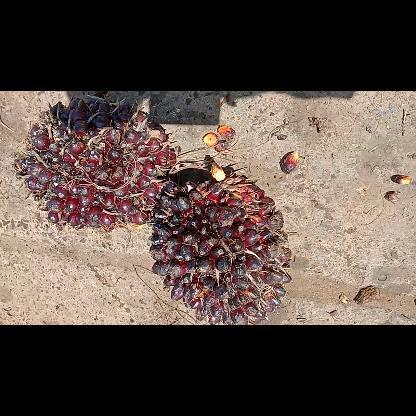Kurang masak: (11, 92, 181, 234), (149, 172, 293, 324)
